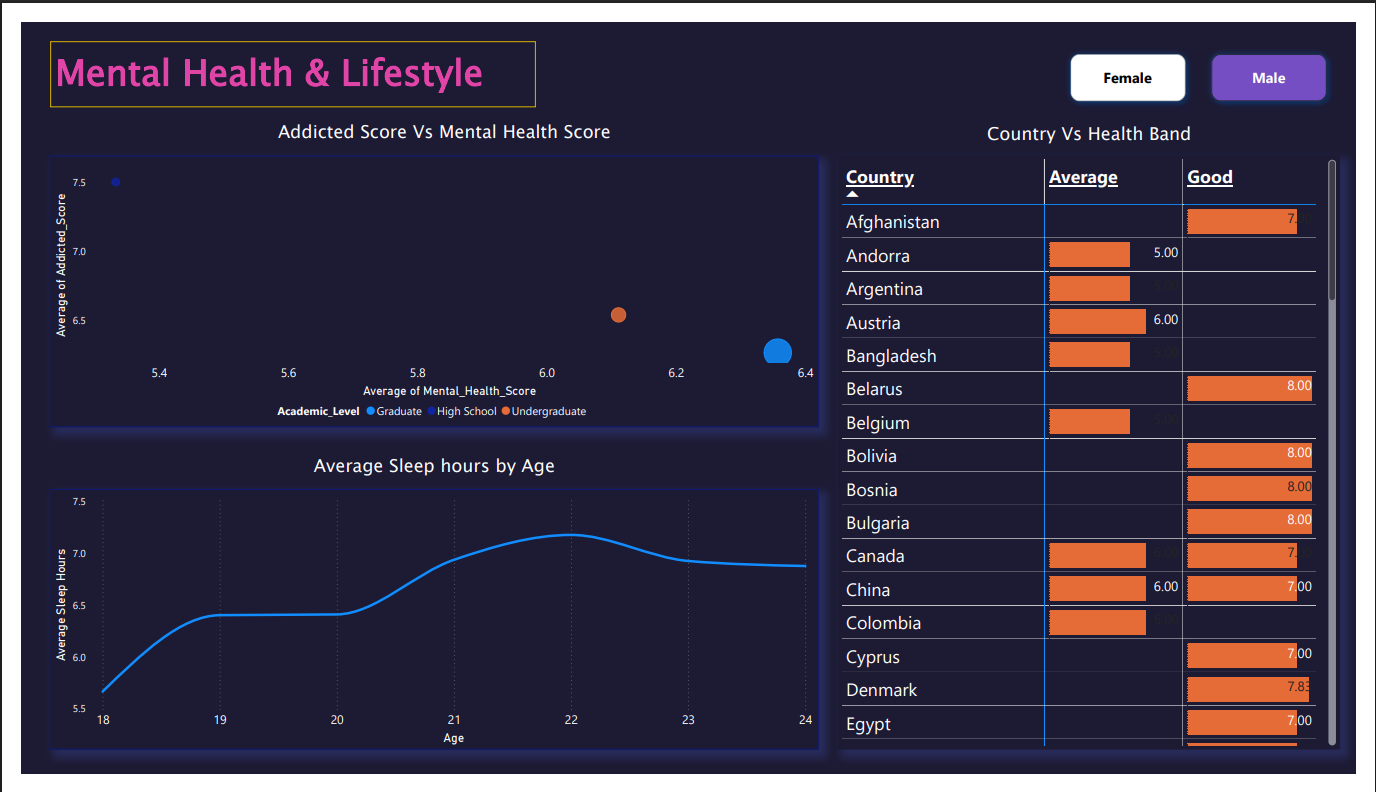

Layout of this report page (visuals, bound fields, positions):
{"tool":"powerbi","page":{"name":"Mental Health & Lifestyle","canvas":[1600,900],"ordinal":2},"visuals":[{"type":"pivotTable","fields":{"Rows":["Student Details.Country"],"Columns":["Student Details.Health Band"],"Values":["Avg(Student Details.Mental_Health_Score)"]},"box":[979.2,160.2,601.6,711.1],"z":0},{"type":"scatterChart","fields":{"Series":["Student Details.Academic_Level"],"Size":["Sum(Student Details.Addicted_Score)1"],"Y":["Avg(Student Details.Addicted_Score)"],"X":["Avg(Student Details.Mental_Health_Score)"]},"box":[34.3,160.2,921.9,325.3],"z":1000},{"type":"lineChart","fields":{"Category":["Student Details.Age"],"Y":["Student Details.Average Sleep Hours"]},"box":[34.3,559.1,921.9,312.2],"z":2000},{"type":"textbox","box":[303.3,111.3,423,48.7],"z":3000},{"type":"textbox","box":[283.9,510.7,423,48.7],"z":4000},{"type":"textbox","box":[1068.7,112.7,423,48.7],"z":5000},{"type":"advancedSlicerVisual","fields":{"Values":["Student Details.Gender"]},"box":[1241.2,22.3,339.5,89.1],"z":6000},{"type":"textbox","box":[35.3,22.6,581.5,79],"z":7000}]}

Visuals, with their boxes in screenshot pixels (x1, y1, x2, y2), scaled from the page's 1600x900 canvas onto the 1376x792 screenshot:
pivotTable - Student Details.Country x Student Details.Health Band: 842, 141, 1359, 767
scatterChart - Student Details.Academic_Level x Sum(Student Details.Addicted_Score)1: 29, 141, 822, 427
lineChart - Student Details.Age x Student Details.Average Sleep Hours: 29, 492, 822, 767
textbox: 261, 98, 625, 141
textbox: 244, 449, 608, 492
textbox: 919, 99, 1283, 142
advancedSlicerVisual - Student Details.Gender: 1067, 20, 1359, 98
textbox: 30, 20, 530, 89
